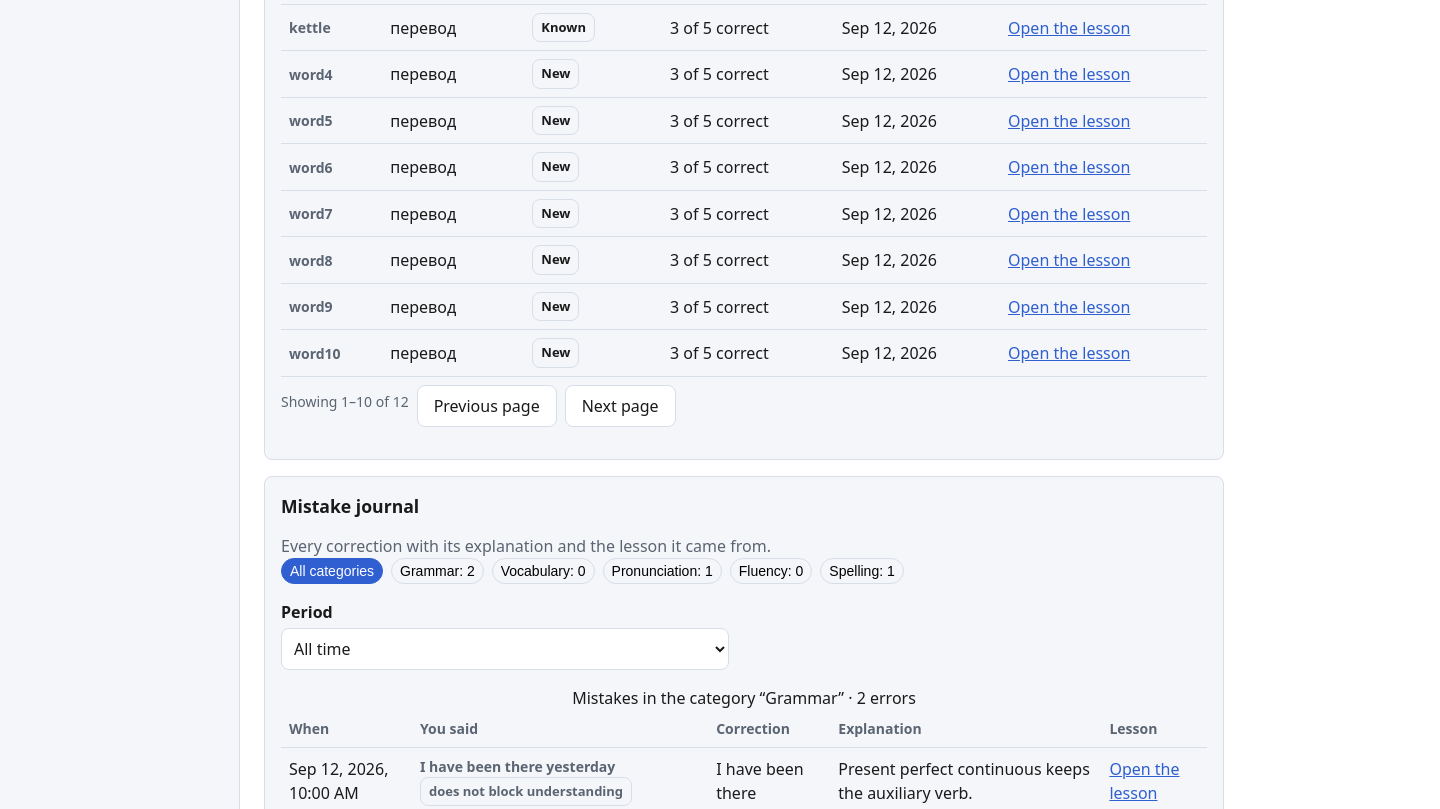
фильтры лексики › листает словарь постранично через смещение запроса
(page scrolled)
Click the button "Next page": (620, 406) [565, 385, 676, 427]
(page scrolled)
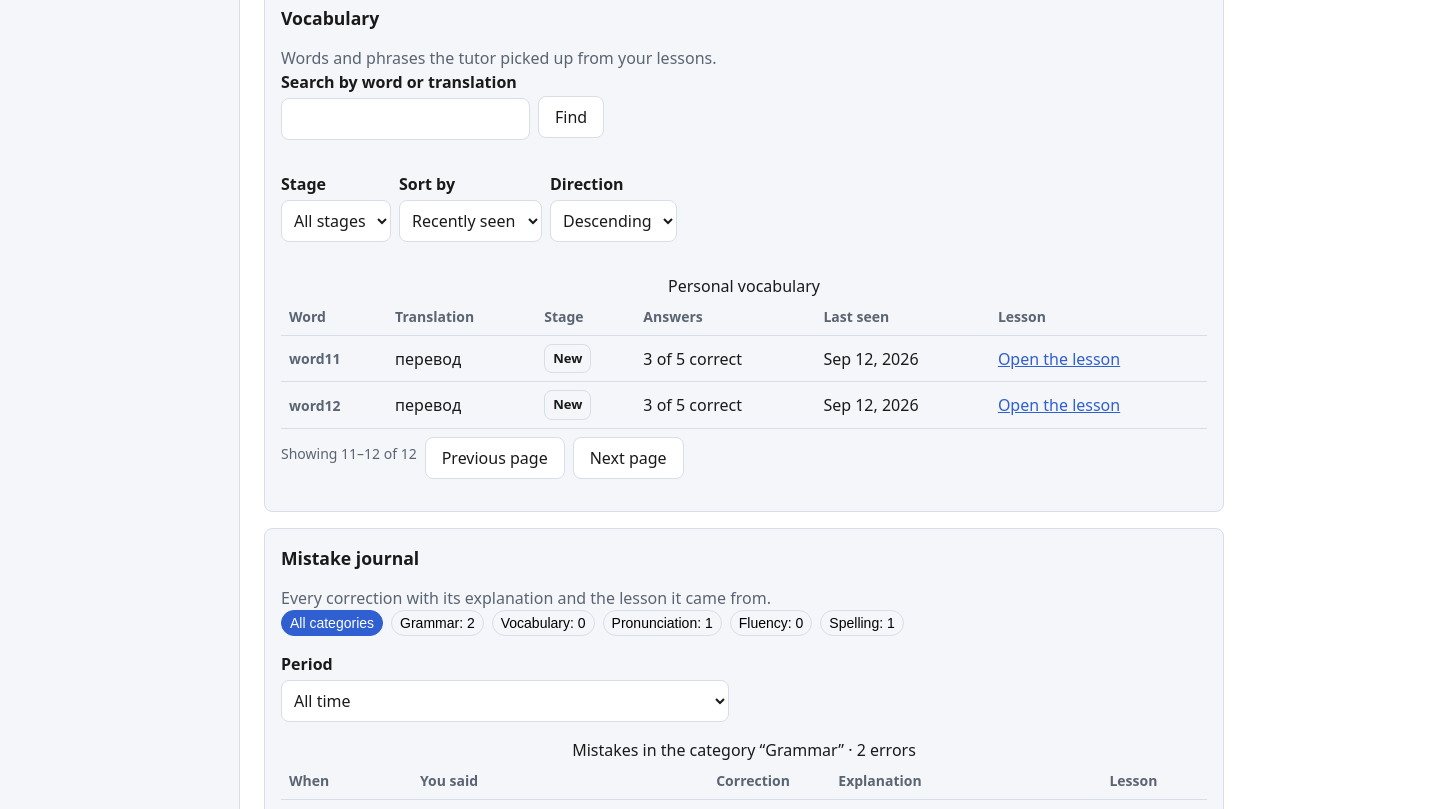
Now the column heading "word12" is shown, box [281, 382, 387, 428]
